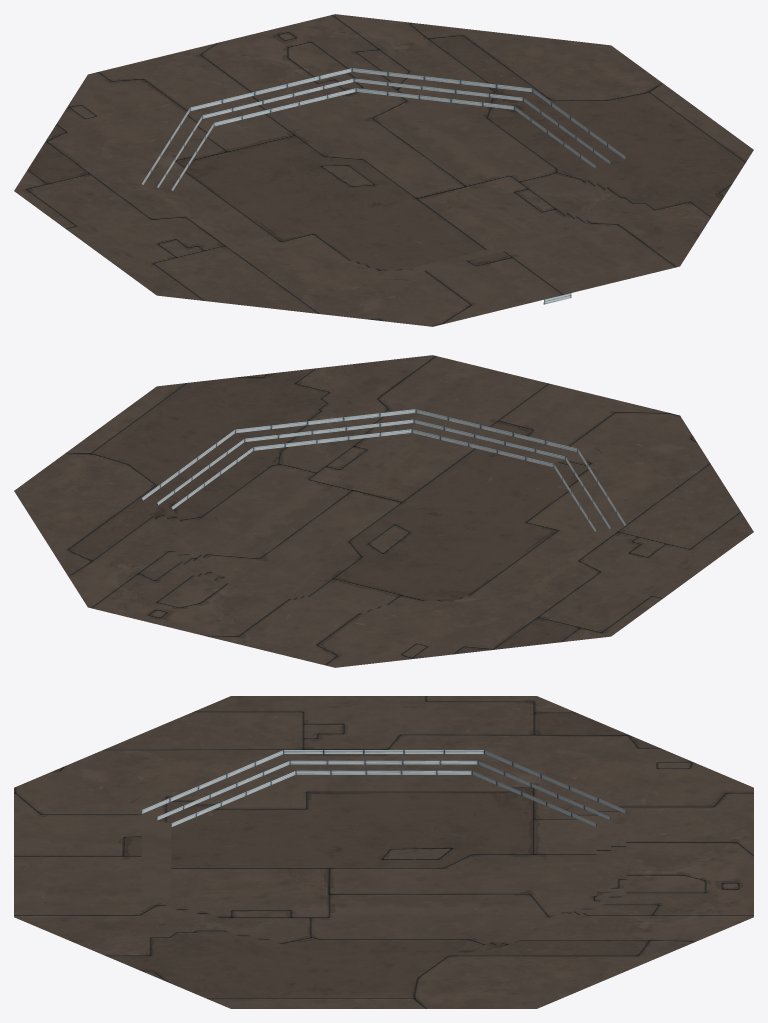
File: floor.FBX
3 views of the same model, one above another, from view 1: azimuth 30°, elevation 25°; view 2: azimuth 150°, elevation 25°; view 3: azimuth 270°, elevation 25° (orthographic). The views are drawn at different scales.
Parts seen in each view (by area): view 1: floor; view 2: floor; view 3: floor.
Boxes of the visible parts, x1,y1,x2,y2 form: floor: (14,14,753,326); floor: (14,355,753,667); floor: (14,696,753,1008).
Size of the model in its own units: 98534 by 1795 by 98534.
2 materials, 2 textured.
